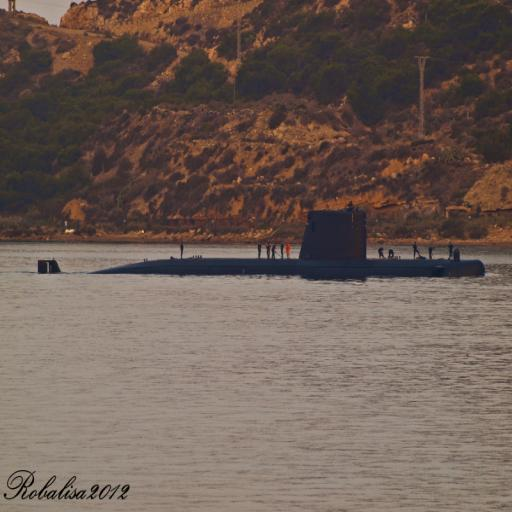submarine: (37, 208, 491, 273)
